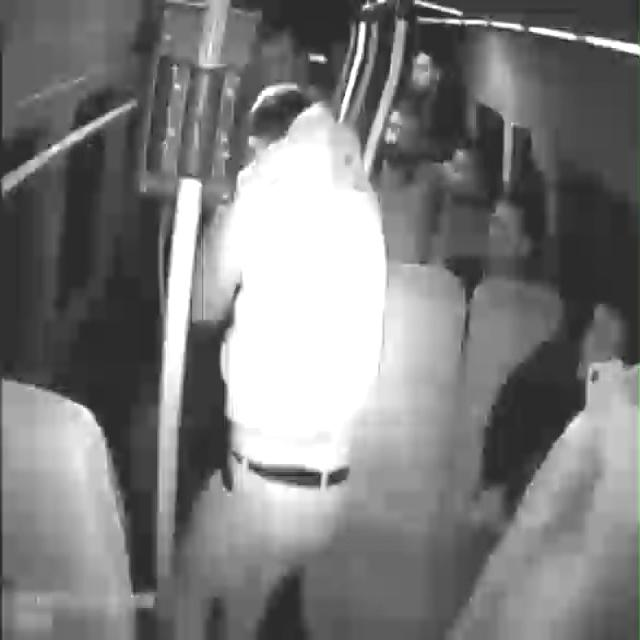fight: (145, 76, 392, 640)
